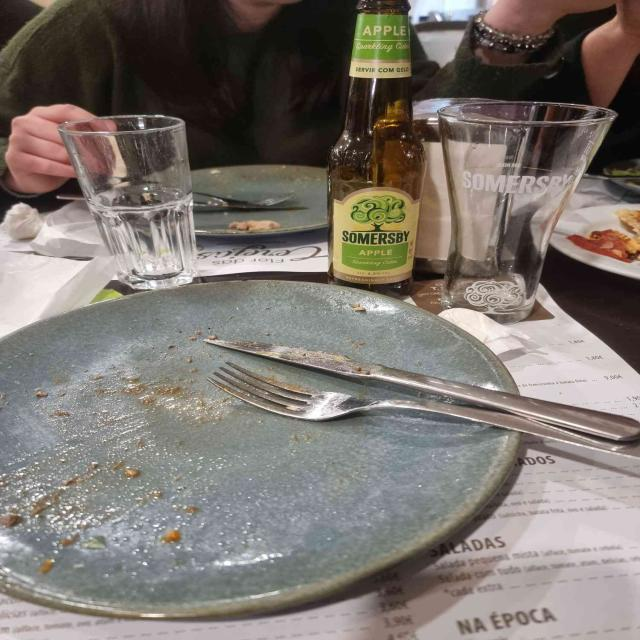cup: (438, 100, 615, 321), (59, 116, 197, 291)
fork: (207, 363, 590, 445)
knife: (205, 340, 640, 447)
plate: (0, 280, 521, 619)
